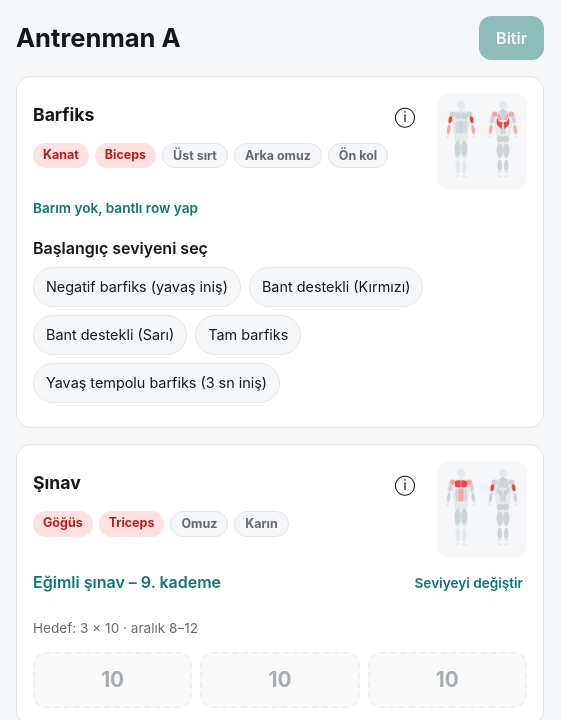
Scenario: boş set kutusuna tek dokunuş hedefi yazar ve anında kaydeder
What coordinates should you click on to do the following:
click the button named "Şınav set 1"
I would click on:
 (113, 680)
Its box is [33,652,192,708].
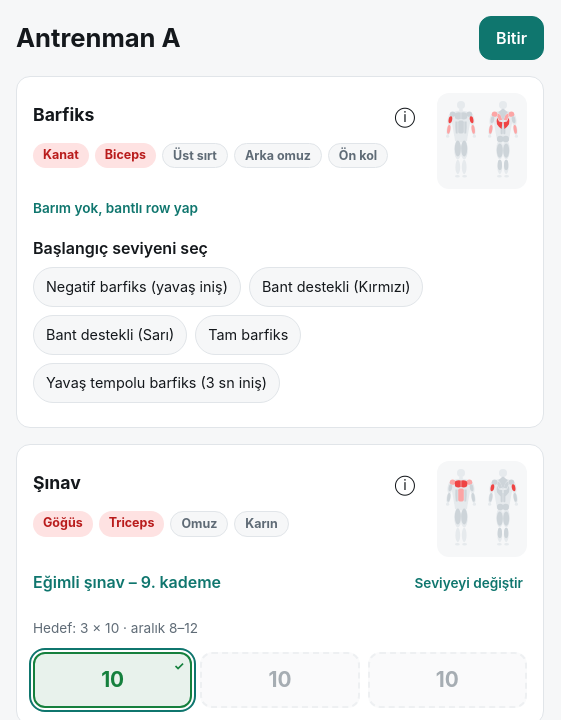
Result: the button "Bitir" is enabled at [479,16,544,60]
